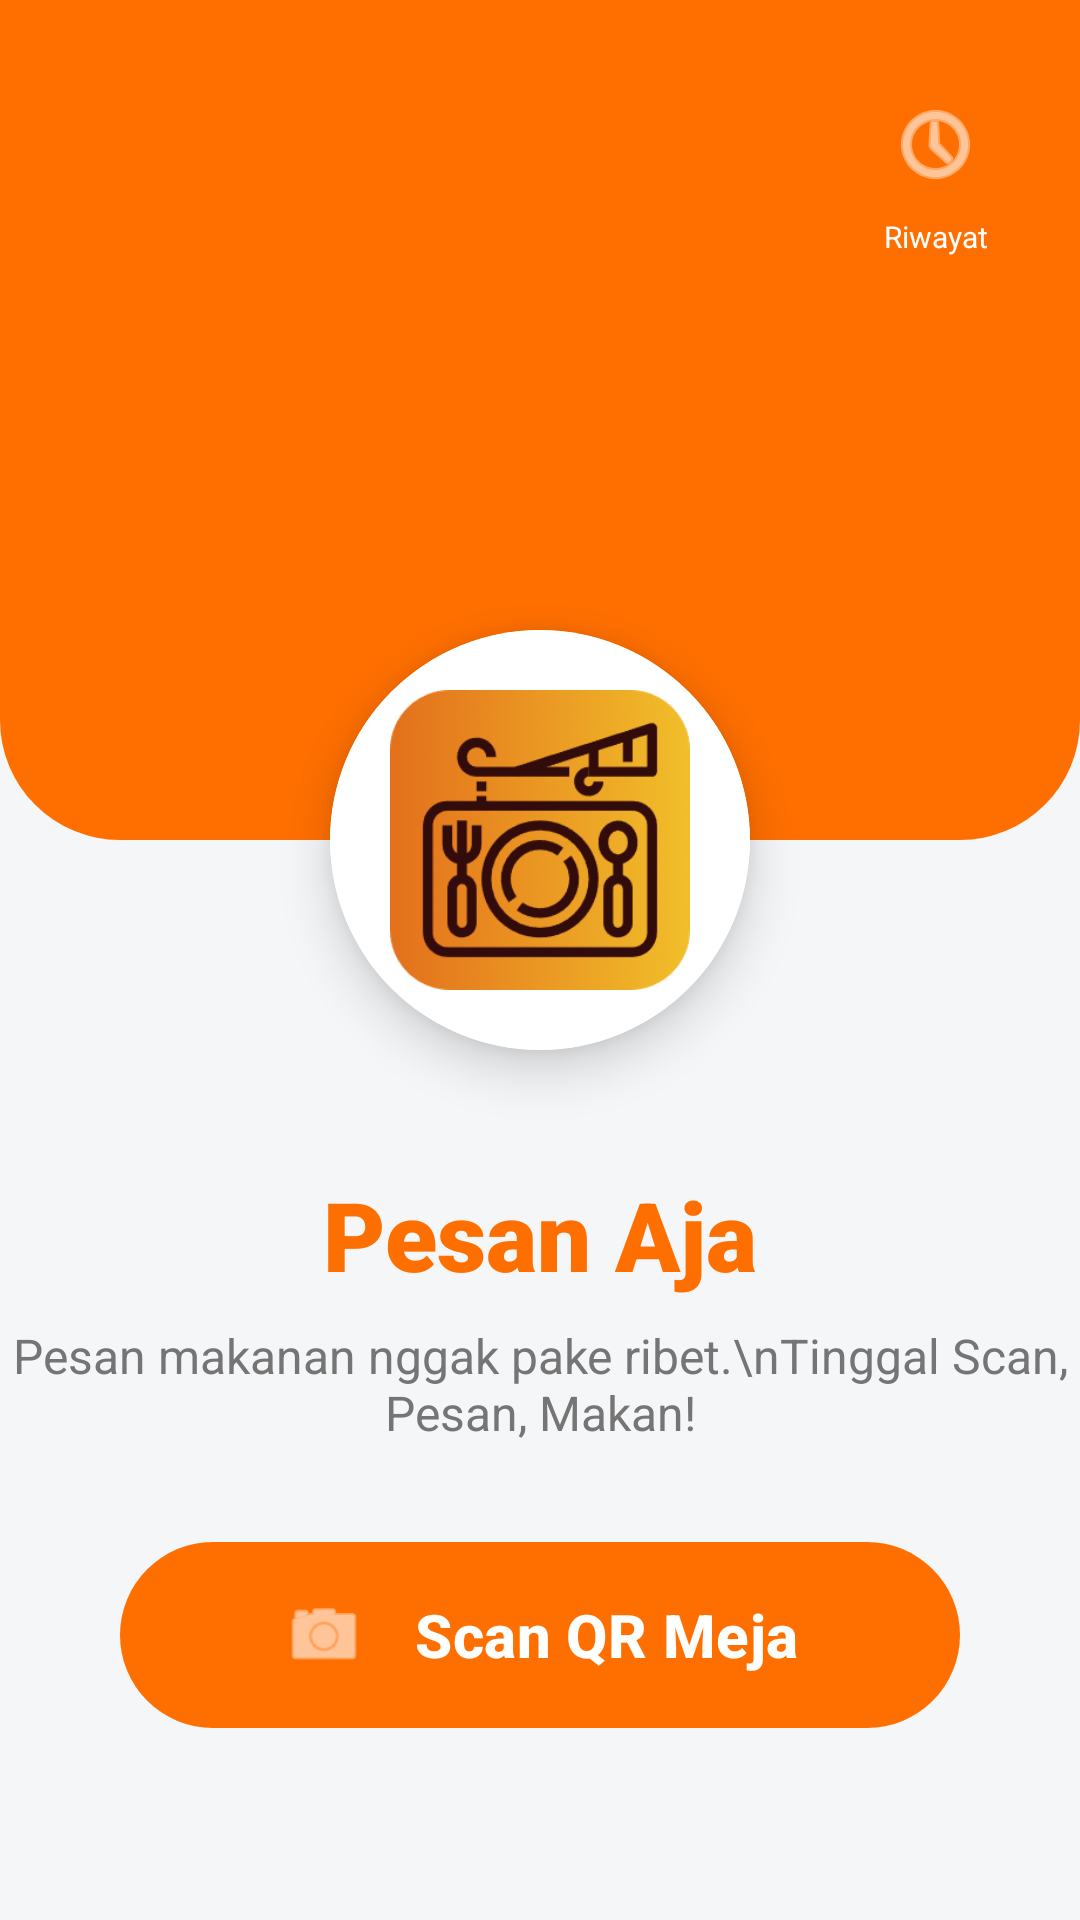

Point at icon controls on the screen. Image size 1080x1920, points as (x,y).
recent history: (935,144)
